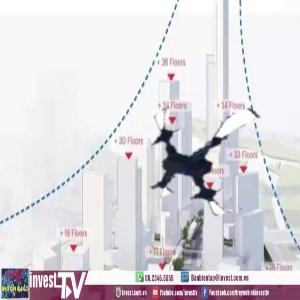drone: (139, 89, 275, 225)
